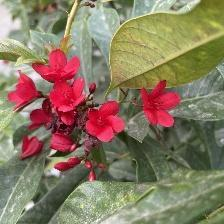jatropha: (140, 78, 184, 130), (85, 101, 129, 144), (33, 50, 83, 83), (51, 76, 90, 114)
